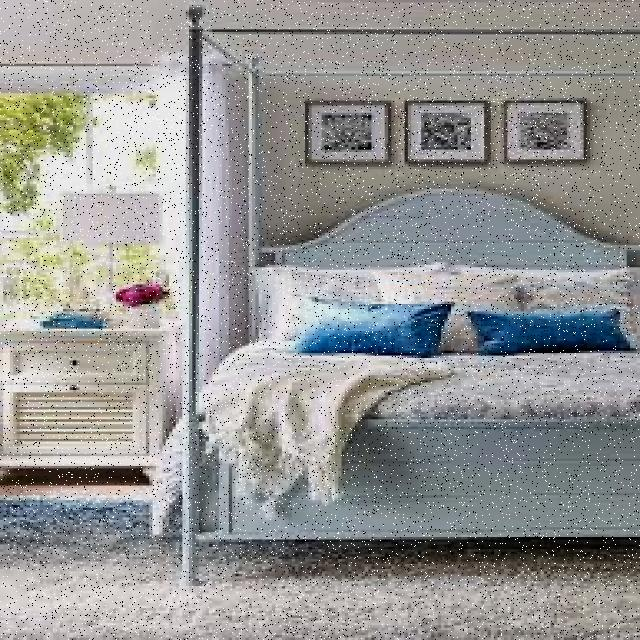bed: (204, 250, 640, 432)
